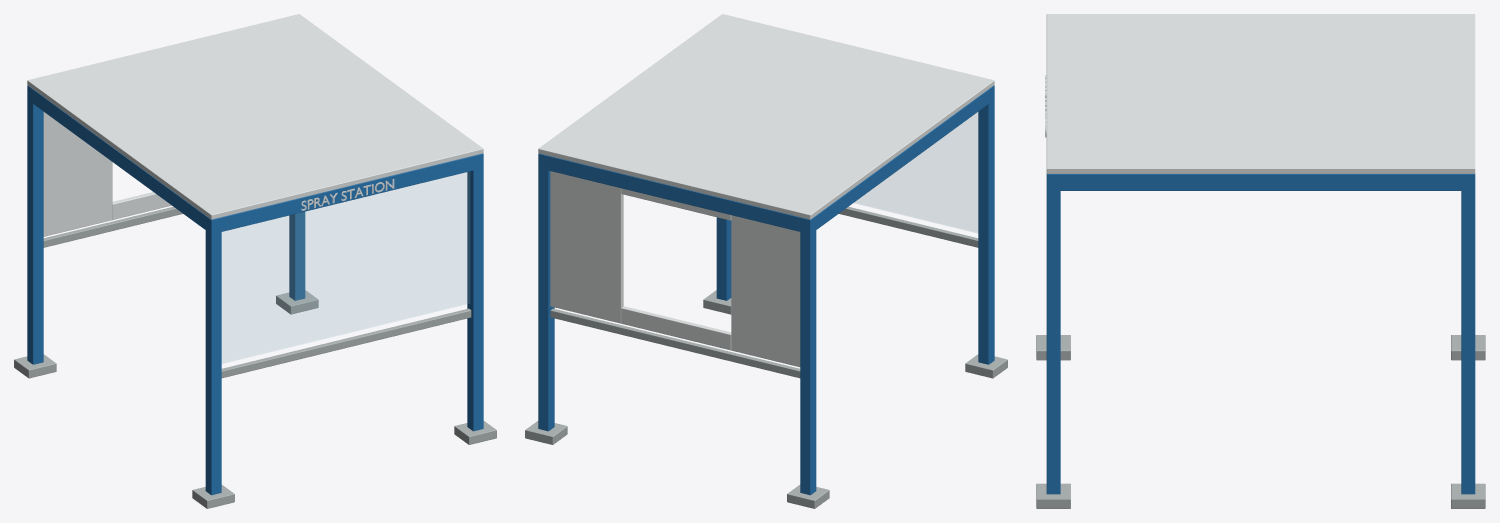
File: coating_enclosure.glb
3 renders of one model, left to right at view 1: azimuth 30°, elevation 25°; view 2: azimuth 150°, elevation 25°; view 3: azimuth 270°, elevation 25°, orthographic. The views are drawn at different scales.
Visible parts, largest first — view 1: TUNNEL_roof, TUNNEL_inspection_glazing, TUNNEL_rear_side_-0.775, TUNNEL_column_-1.12_-1.32, TUNNEL_column_1.12_-1.32, TUNNEL_column_-1.12_1.32, TUNNEL_side_header_-1.32, TUNNEL_end_header_-1.12, TUNNEL_sill_-1.32, TUNNEL_column_1.12_1.32, TUNNEL_sill_1.32, TUNNEL_rear_strip_1.145 (+5 smaller); view 2: TUNNEL_roof, TUNNEL_rear_side_0.775, TUNNEL_rear_side_-0.775, TUNNEL_inspection_glazing, TUNNEL_column_-1.12_1.32, TUNNEL_column_-1.12_-1.32, TUNNEL_side_header_1.32, TUNNEL_column_1.12_1.32, TUNNEL_end_header_-1.12, TUNNEL_sill_1.32, TUNNEL_rear_strip_1.145, TUNNEL_sill_-1.32 (+5 smaller); view 3: TUNNEL_roof, TUNNEL_end_header_1.12, TUNNEL_column_1.12_-1.32, TUNNEL_column_1.12_1.32, TUNNEL_foot_1.12_1.32, TUNNEL_foot_1.12_-1.32, TUNNEL_foot_-1.12_1.32, TUNNEL_foot_-1.12_-1.32.
Part boxes in pixels (bbox=[...]): TUNNEL_roof: bbox=[27, 14, 483, 219]; TUNNEL_inspection_glazing: bbox=[222, 172, 469, 363]; TUNNEL_rear_side_-0.775: bbox=[43, 112, 112, 236]; TUNNEL_column_-1.12_-1.32: bbox=[205, 226, 221, 495]; TUNNEL_column_1.12_-1.32: bbox=[467, 164, 483, 431]; TUNNEL_column_-1.12_1.32: bbox=[27, 96, 43, 364]; TUNNEL_side_header_-1.32: bbox=[207, 153, 483, 231]; TUNNEL_end_header_-1.12: bbox=[27, 85, 221, 233]; TUNNEL_sill_-1.32: bbox=[221, 308, 471, 378]; TUNNEL_column_1.12_1.32: bbox=[289, 211, 305, 300]; TUNNEL_sill_1.32: bbox=[43, 206, 182, 247]; TUNNEL_rear_strip_1.145: bbox=[112, 192, 171, 219]; TUNNEL_roof: bbox=[538, 14, 994, 219]; TUNNEL_rear_side_0.775: bbox=[550, 171, 623, 323]; TUNNEL_rear_side_-0.775: bbox=[731, 215, 800, 367]; TUNNEL_inspection_glazing: bbox=[854, 112, 977, 232]; TUNNEL_column_-1.12_1.32: bbox=[800, 226, 816, 495]; TUNNEL_column_-1.12_-1.32: bbox=[978, 96, 994, 364]; TUNNEL_side_header_1.32: bbox=[538, 153, 815, 232]; TUNNEL_column_1.12_1.32: bbox=[538, 164, 554, 431]; TUNNEL_end_header_-1.12: bbox=[800, 85, 994, 232]; TUNNEL_sill_1.32: bbox=[550, 308, 800, 378]; TUNNEL_rear_strip_1.145: bbox=[621, 306, 731, 350]; TUNNEL_sill_-1.32: bbox=[839, 206, 978, 247]; TUNNEL_roof: bbox=[1046, 14, 1475, 173]; TUNNEL_end_header_1.12: bbox=[1047, 174, 1475, 190]; TUNNEL_column_1.12_-1.32: bbox=[1046, 186, 1060, 494]; TUNNEL_column_1.12_1.32: bbox=[1461, 186, 1475, 494]; TUNNEL_foot_1.12_1.32: bbox=[1451, 483, 1485, 508]; TUNNEL_foot_1.12_-1.32: bbox=[1036, 483, 1070, 508]; TUNNEL_foot_-1.12_1.32: bbox=[1451, 335, 1485, 360]; TUNNEL_foot_-1.12_-1.32: bbox=[1036, 335, 1070, 360].
Size of the model in its own units: 2.48 by 2.36 by 2.86.
